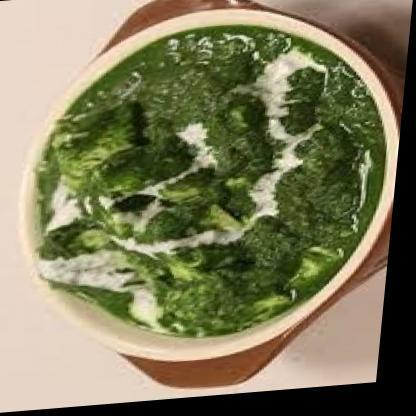palak_paneer: (25, 18, 402, 353)
